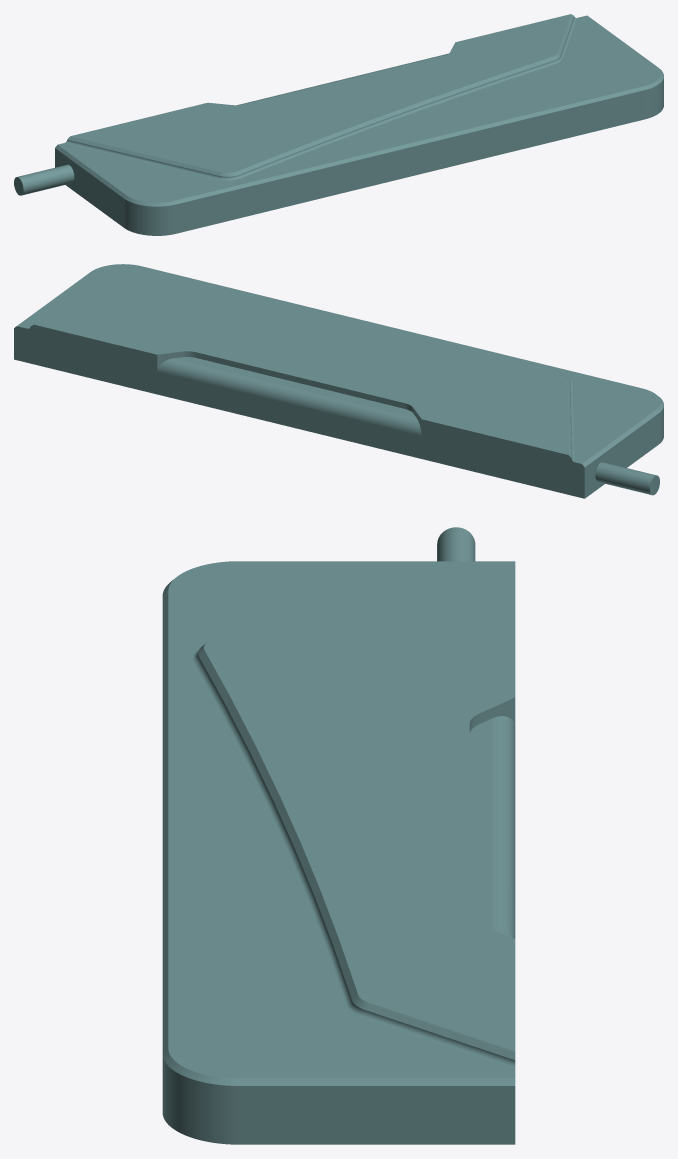
The model's file is herelink-antenna.glb.
The picture shows the model from 3 angles, top to bottom: view 1: azimuth 30°, elevation 25°; view 2: azimuth 150°, elevation 25°; view 3: azimuth 270°, elevation 25°; orthographic projection. The views are drawn at different scales.
Parts seen in each view (by area): view 1: Node1; view 2: Node1; view 3: Node1.
Boxes of the visible parts, bbox=[...] form: Node1: bbox=[14, 14, 663, 235]; Node1: bbox=[14, 264, 663, 498]; Node1: bbox=[162, 527, 515, 1144].
Size of the model in its own units: 115 by 7 by 30.
